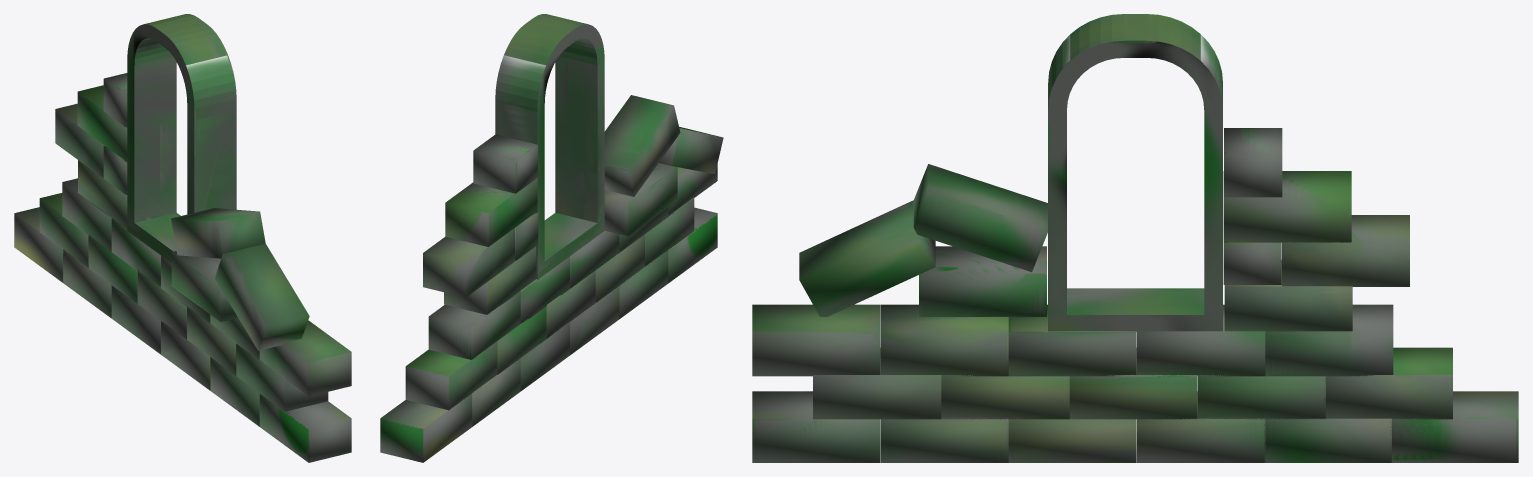
Rendered from ruins.fbx.
The picture shows the model from 3 angles, left to right: view 1: azimuth 30°, elevation 25°; view 2: azimuth 150°, elevation 25°; view 3: azimuth 270°, elevation 25°; orthographic projection. The views are drawn at different scales.
Parts seen in each view (by area): view 1: Cube.017; view 2: Cube.017; view 3: Cube.017.
Part boxes in pixels (x1,y1,x2,y2): Cube.017: [14, 14, 351, 462]; Cube.017: [380, 14, 723, 462]; Cube.017: [752, 14, 1518, 462].
Size of the model in its own units: 66 by 306 by 504.
1 material, 1 textured.
